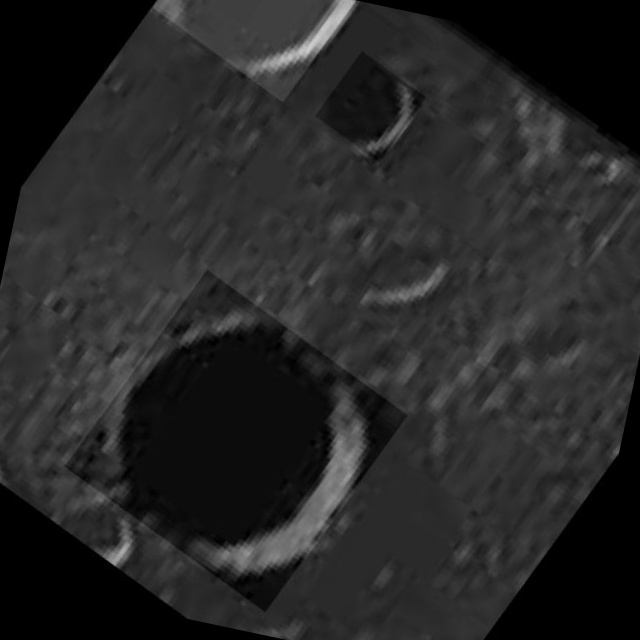crater: (100, 294, 425, 618), (91, 0, 306, 115), (273, 49, 377, 154)
